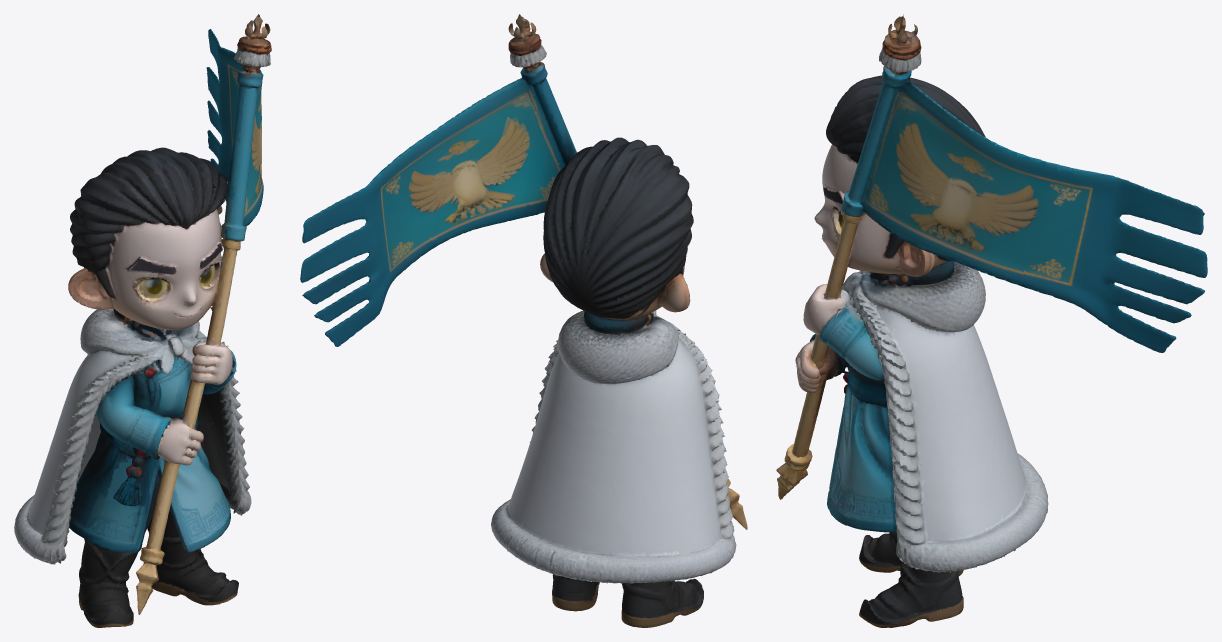
The model's file is naqinshanghuer.glb.
3 views of the same model, side by side, from view 1: azimuth 30°, elevation 25°; view 2: azimuth 150°, elevation 25°; view 3: azimuth 270°, elevation 25° (orthographic). The views are drawn at different scales.
Size of the model in its own units: 1.54 by 2.7 by 1.67.
1 material, 1 textured.
